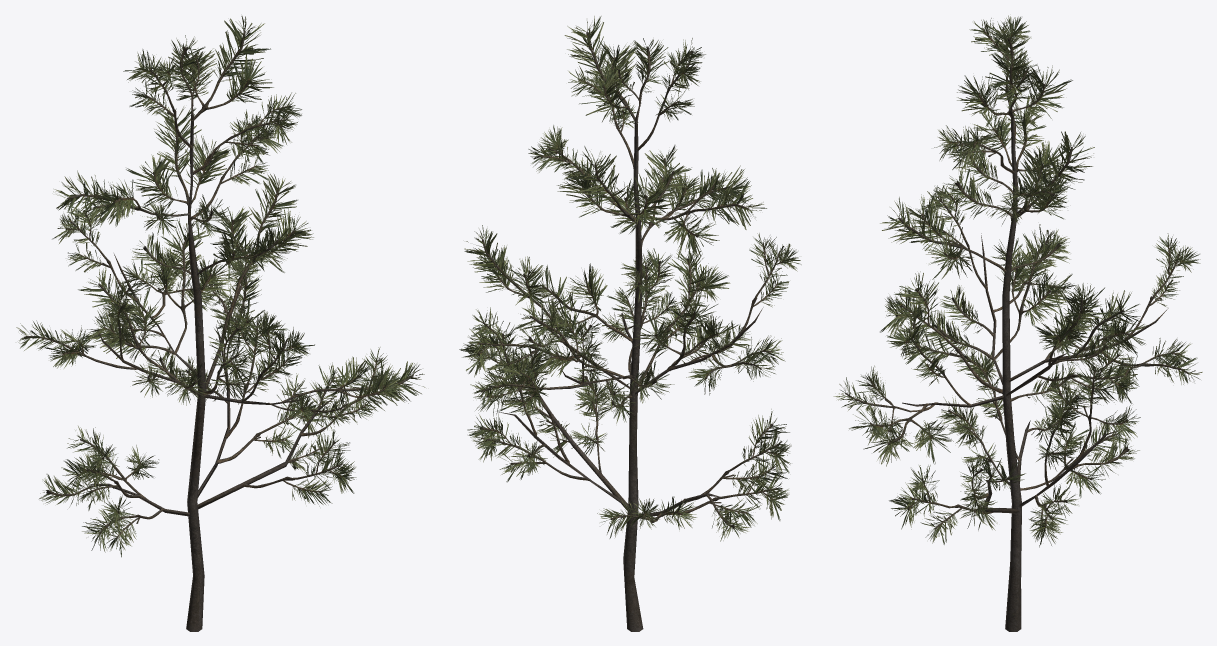
3 renders of one model, left to right at view 1: azimuth 30°, elevation 25°; view 2: azimuth 150°, elevation 25°; view 3: azimuth 270°, elevation 25°, orthographic.
Size of the model in its own units: 0.7877 by 1.3 by 0.7271.
2 materials, 2 textured.
